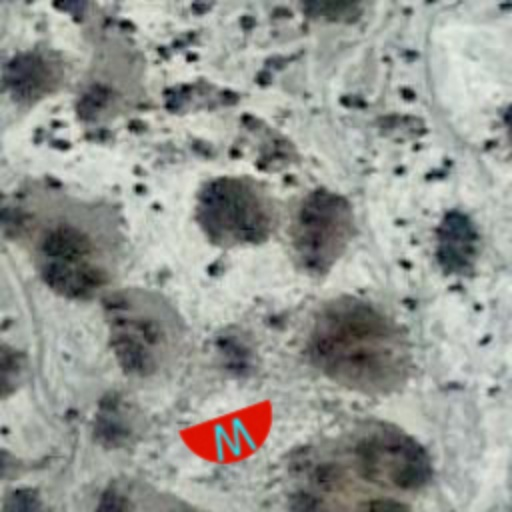semicircle: (170, 376, 294, 500)
